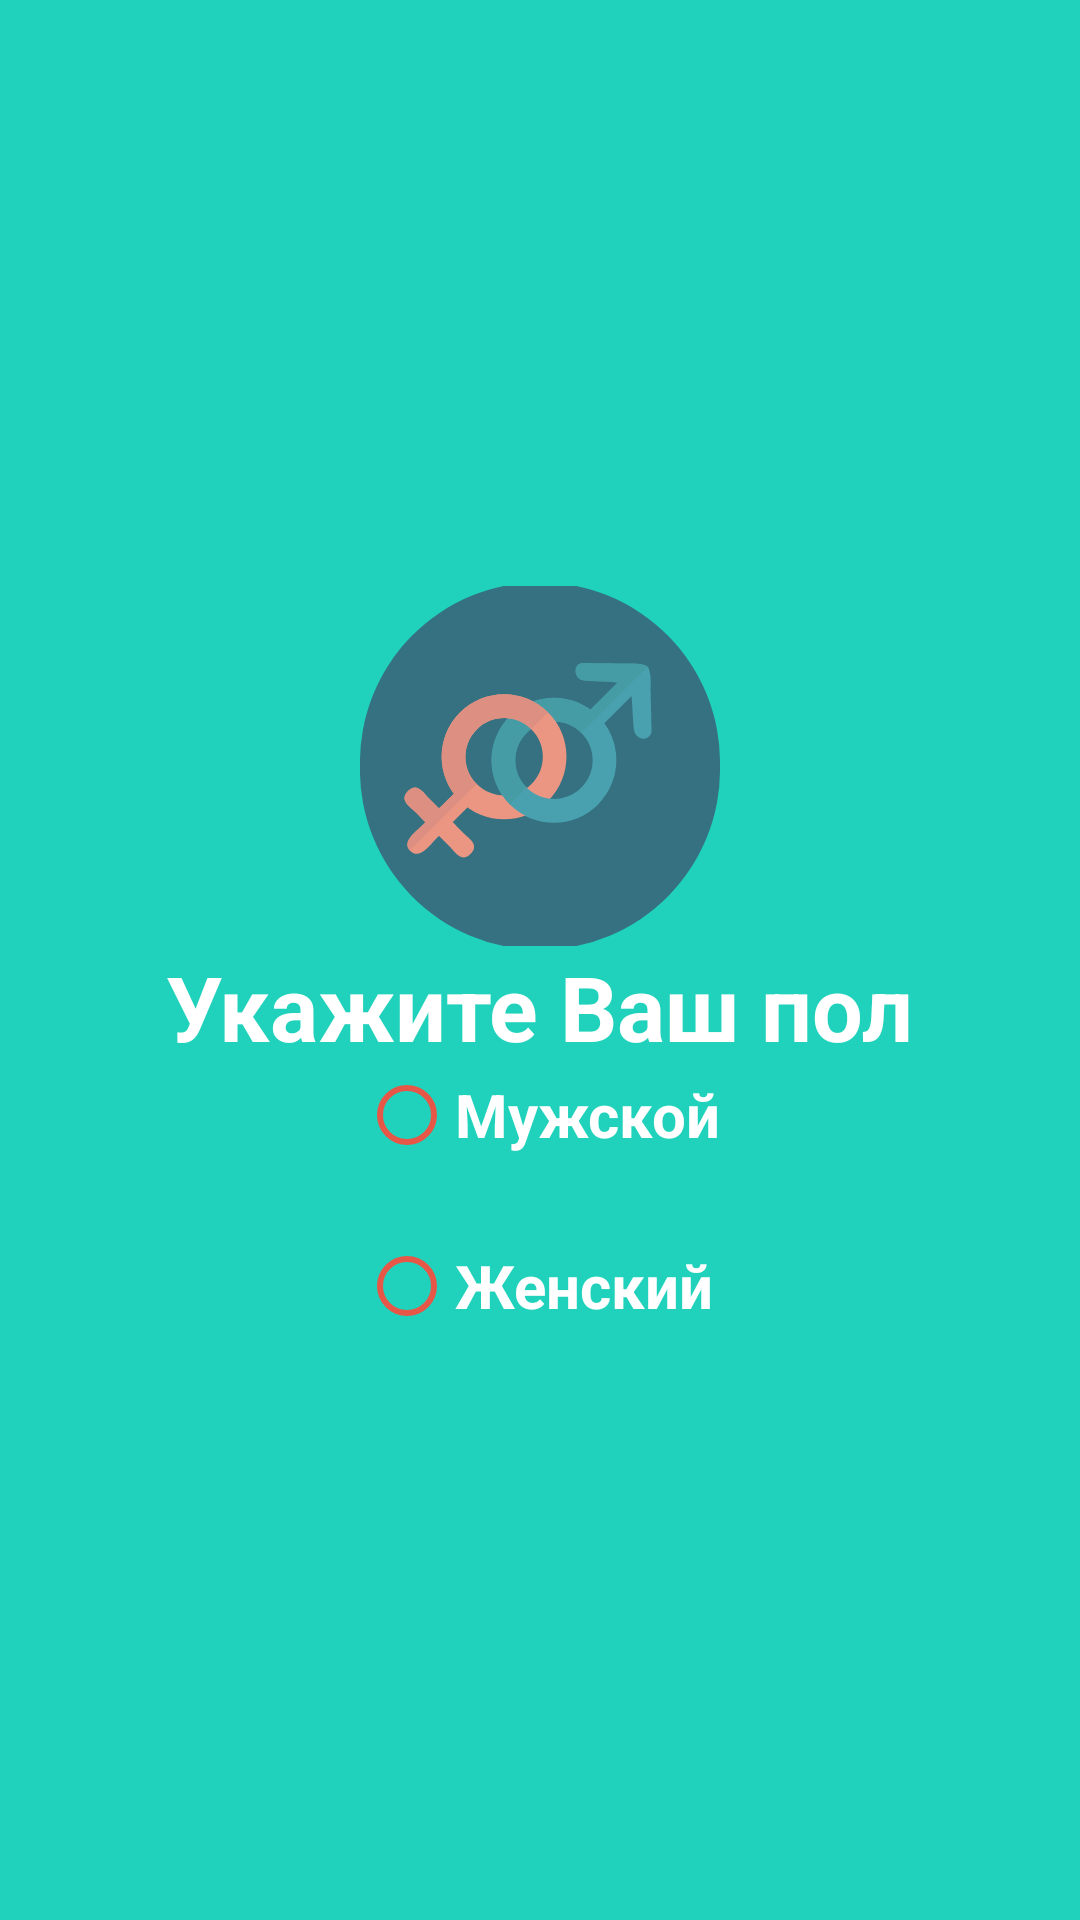

Icon click points for this 1080x1920 phone screenshot, format (x=x, y=y):
gender: (x=540, y=766)
